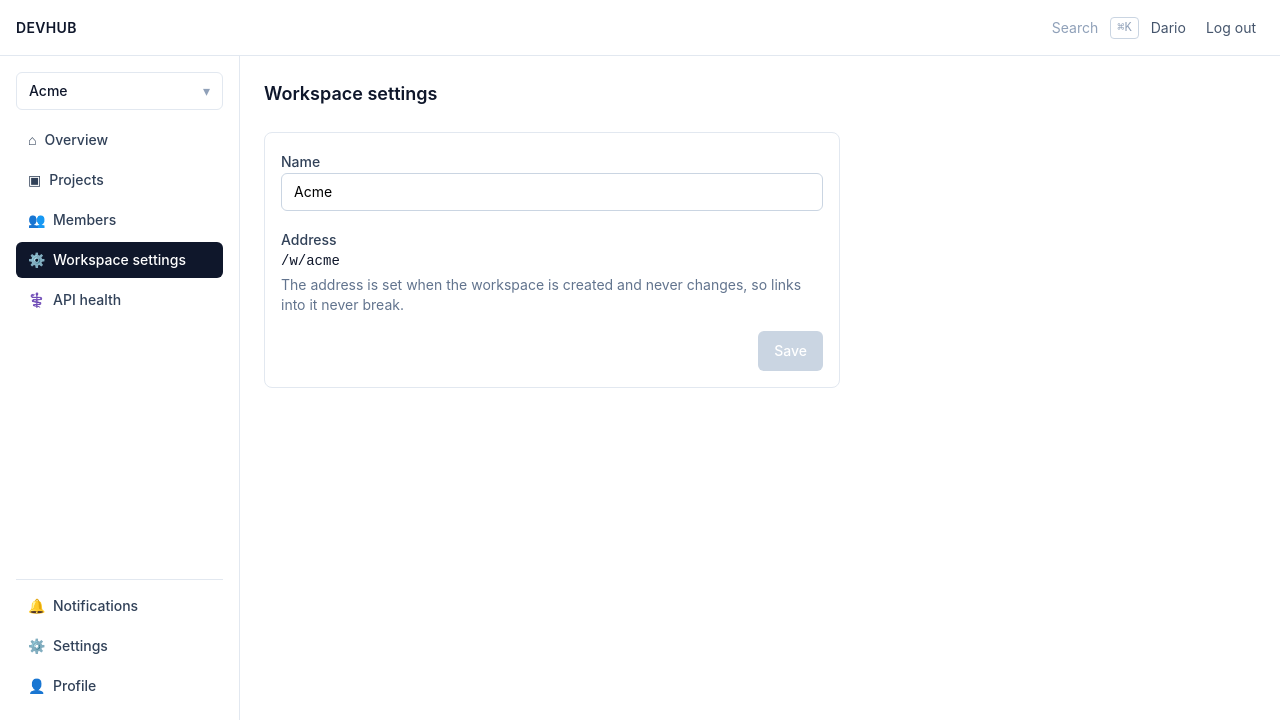
Test case: as an owner › shows the server validation message on a 400
Type " Corp" into the field labelled "Name" at (552, 192), box [281,173,823,211]
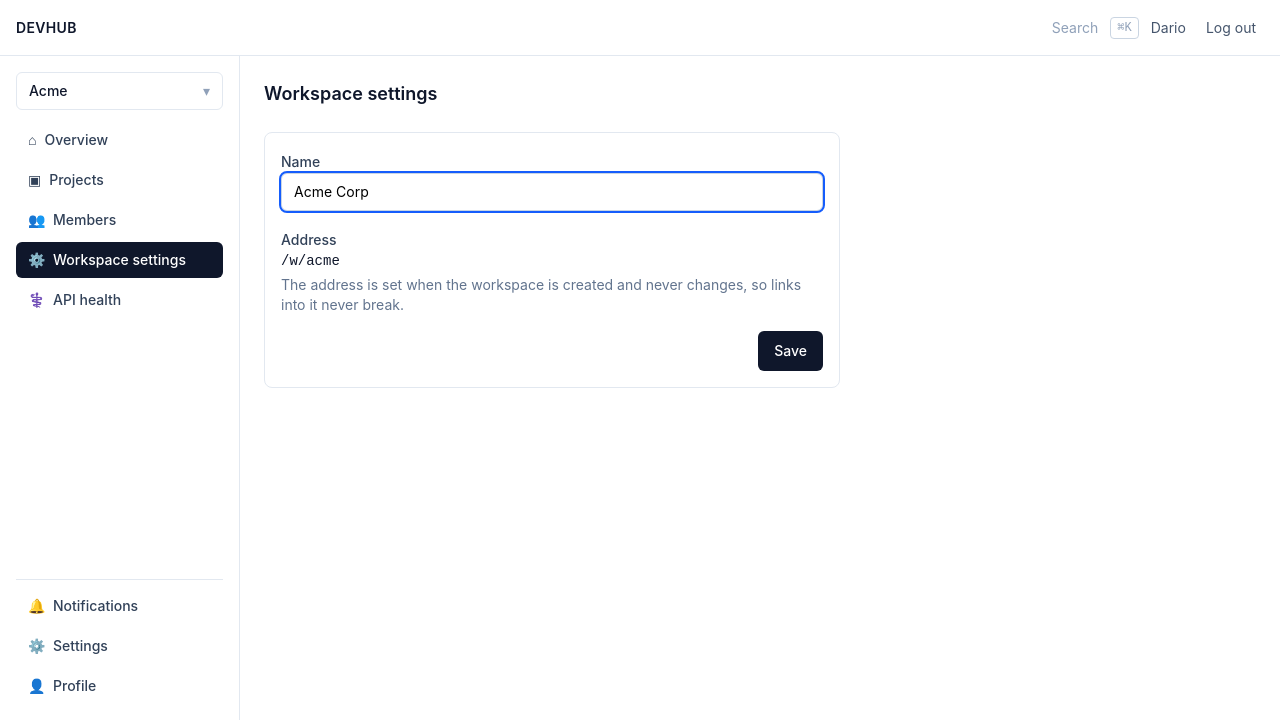
Click the button "Save" at (791, 351), box [758,331,823,371]
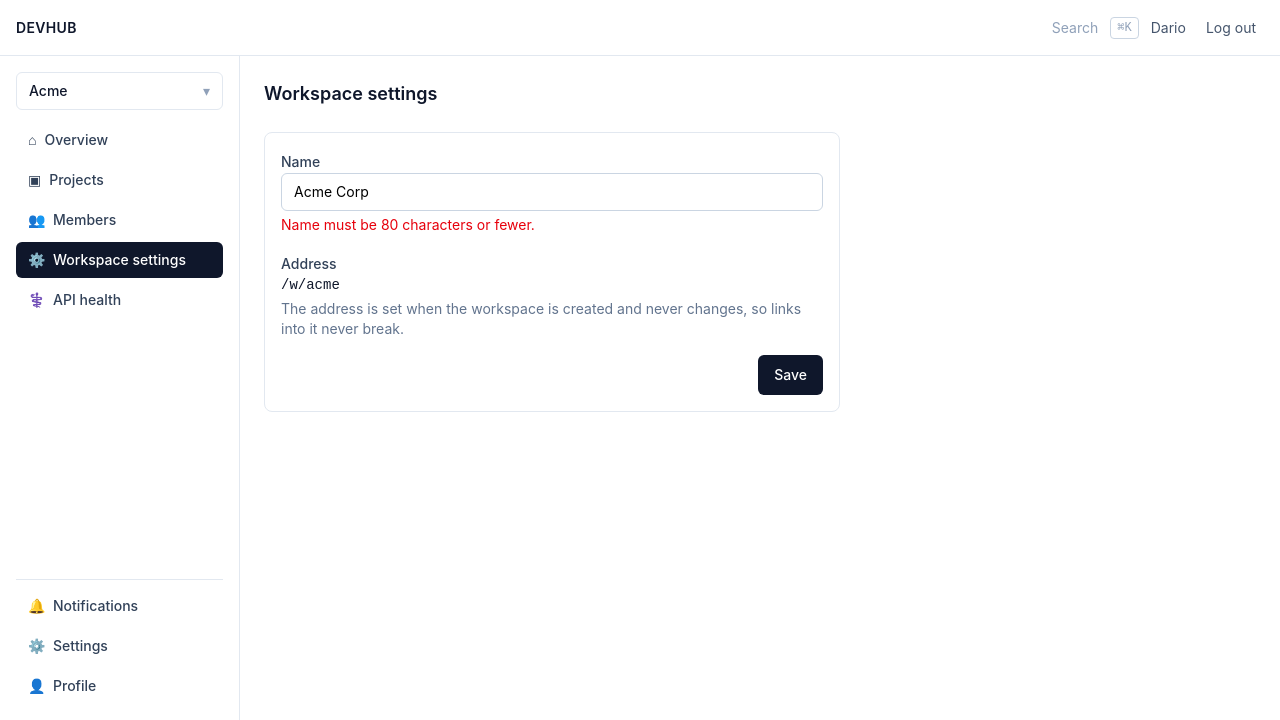
Now the text "Name must be 80 characters or fewer." is shown, box [281,216,535,233]
